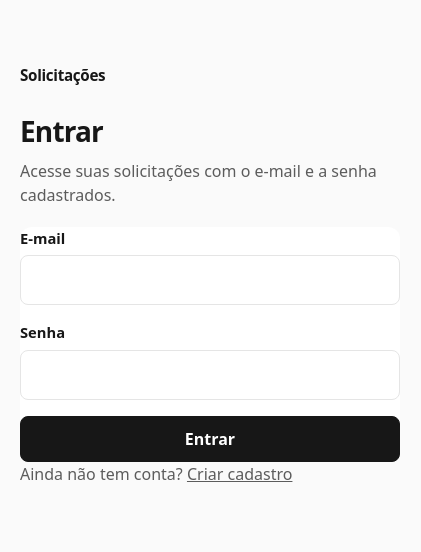
Test case: login e cadastro › mostra a falha de conexão quando a API está indisponível
Expected: the heading "Entrar" is shown, [20, 112, 103, 150]
Type "etapa5.ui@example.com" into the field labelled "E-mail".
click(210, 280); type("etapa5.ui@example.com")  # box [20, 255, 400, 305]
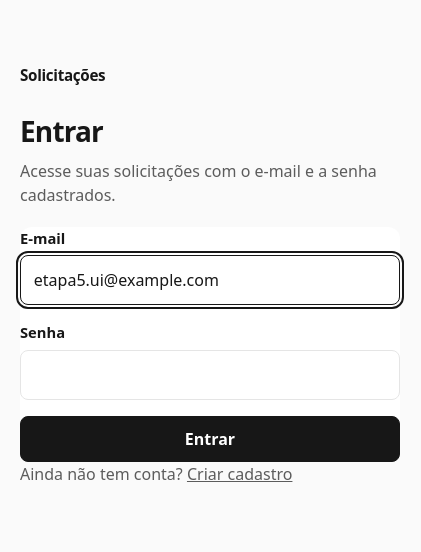
Type "Teste1234" into the password field labelled "Senha".
click(210, 375); type("Teste1234")  # box [20, 350, 400, 400]
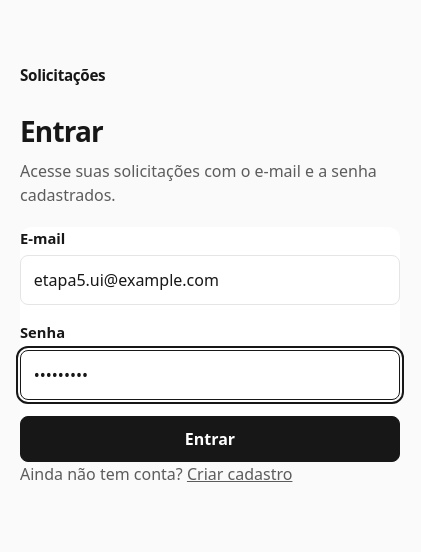
Click the button "Entrar".
click(210, 439)  # box [20, 416, 400, 462]
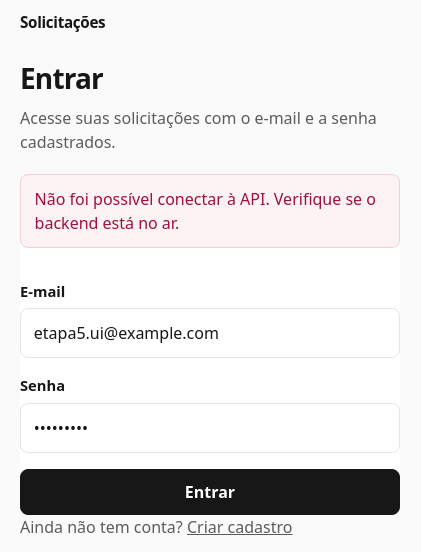
Result: the message shows "Não foi possível conectar à API" at [35, 188, 376, 234]
